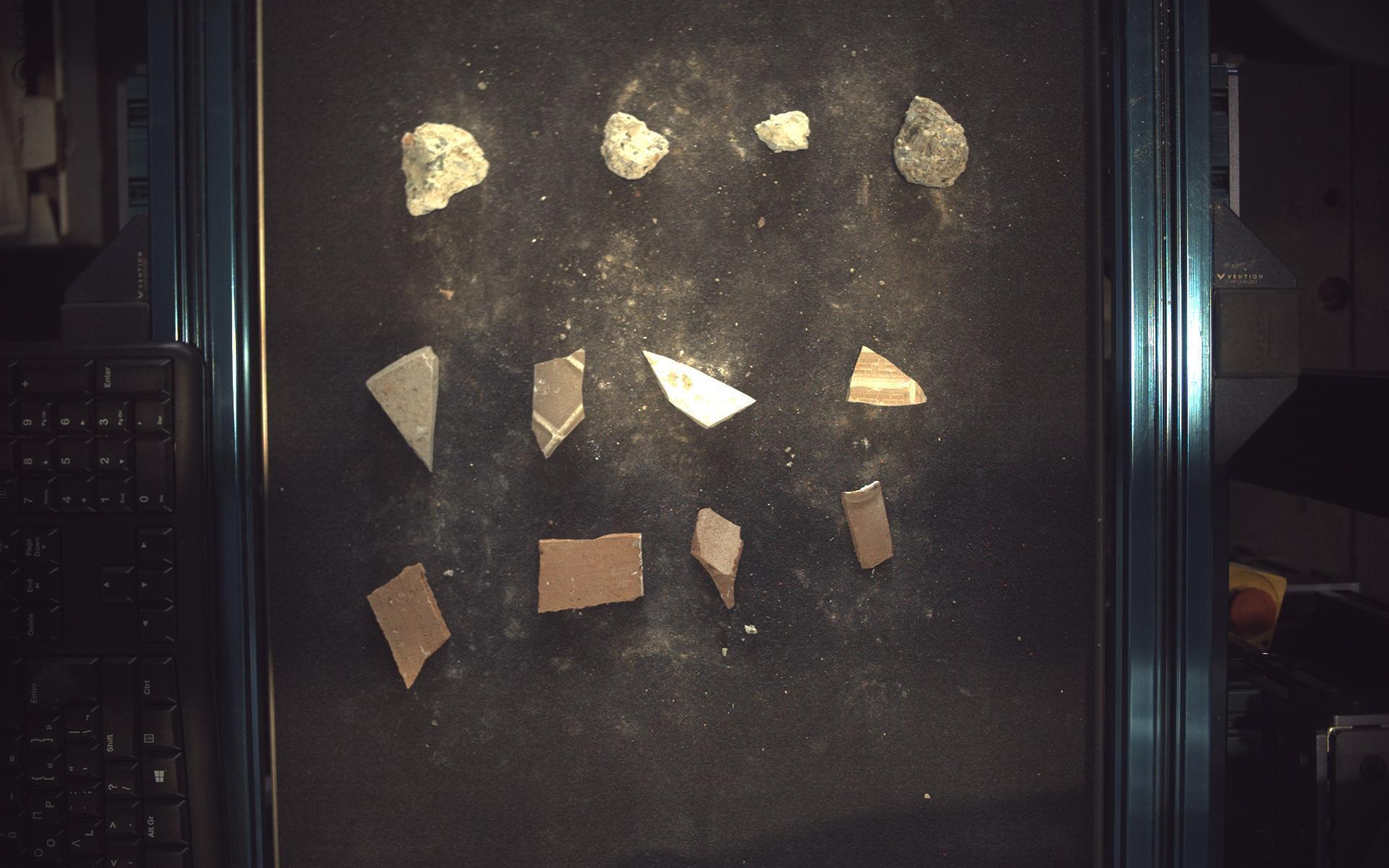brick: (367, 563, 450, 689), (538, 534, 645, 613), (692, 509, 744, 610), (843, 481, 895, 569)
concrete: (402, 122, 489, 216), (896, 95, 971, 187), (602, 111, 670, 179), (756, 109, 811, 152)
tile: (366, 346, 439, 472), (645, 349, 756, 428), (532, 349, 586, 458), (849, 346, 929, 406)
